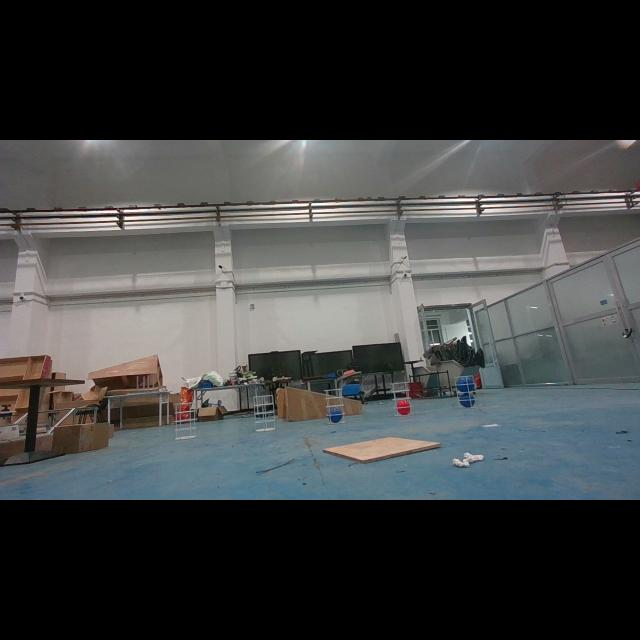B: (457, 394, 475, 408), (457, 381, 475, 394), (329, 410, 343, 422)
R: (395, 400, 411, 414)
S: (250, 393, 278, 435), (172, 400, 200, 442), (322, 387, 348, 428), (452, 373, 480, 411), (389, 378, 415, 418)
